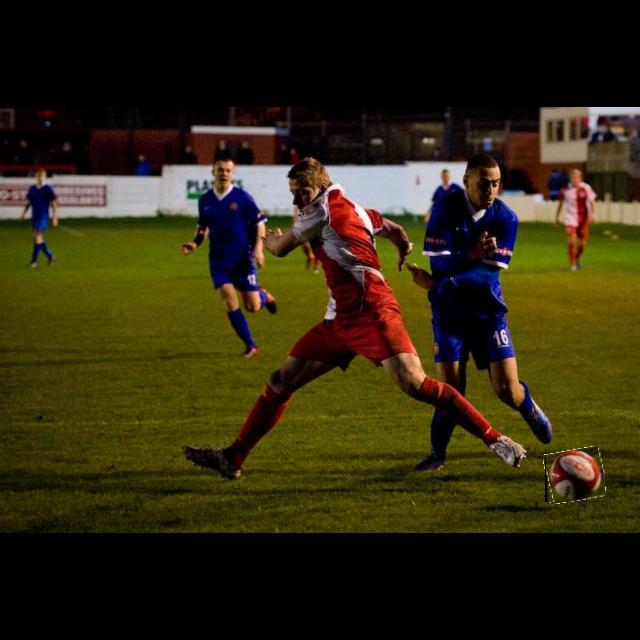Football: (545, 448, 605, 502)
